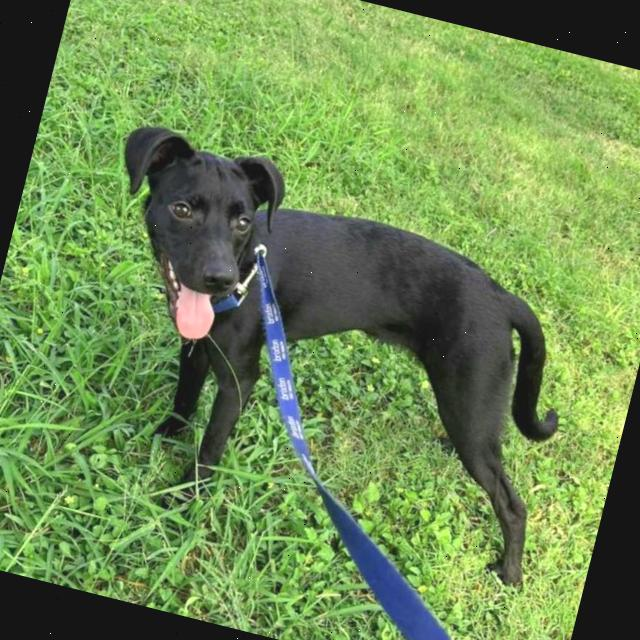labrador_retriever_dog: (75, 112, 312, 364)
